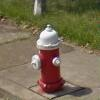a fire hydrant: (37, 25, 62, 96)
